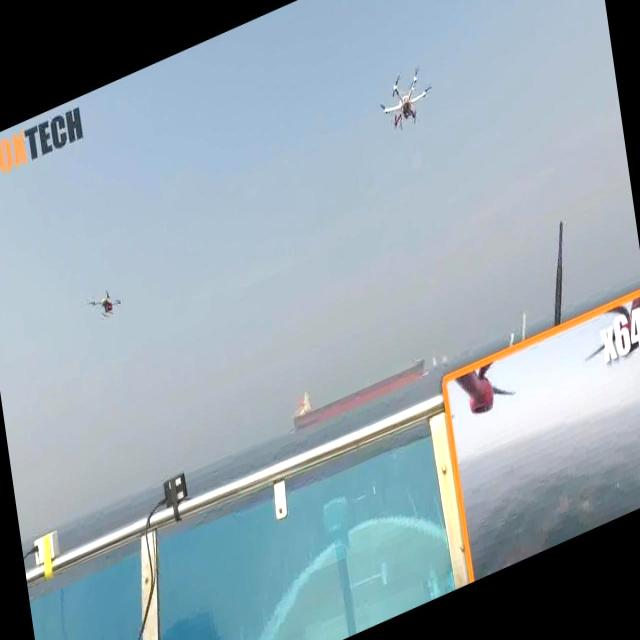drone: (367, 41, 444, 154), (82, 276, 130, 335)
